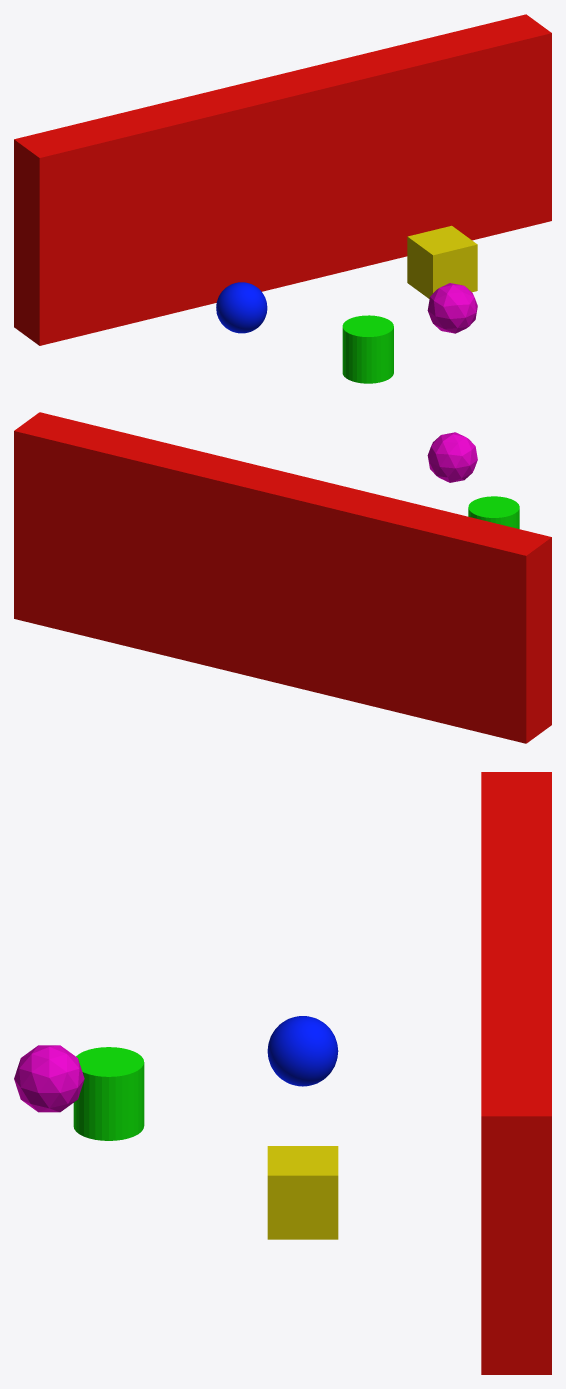
3 views of the same model, one above another, from view 1: azimuth 30°, elevation 25°; view 2: azimuth 150°, elevation 25°; view 3: azimuth 270°, elevation 25° (orthographic). The views are drawn at different scales.
Parts seen in each view (by area): view 1: Cube.001, Cube, Cylinder, Sphere, Icosphere; view 2: Cube.001, Icosphere, Cylinder; view 3: Cube.001, Cube, Cylinder, Sphere, Icosphere.
Boxes of the visible parts, box(x1,y1,x2,y2) form: Cube.001: box(14, 14, 551, 345); Cube: box(407, 225, 477, 298); Cylinder: box(342, 315, 393, 383); Sphere: box(216, 282, 267, 333); Icosphere: box(427, 283, 477, 333); Cube.001: box(14, 412, 551, 743); Icosphere: box(427, 432, 477, 482); Cylinder: box(468, 496, 519, 528); Cube.001: box(481, 772, 551, 1374); Cube: box(267, 1146, 338, 1239); Cylinder: box(73, 1047, 144, 1140); Sphere: box(267, 1016, 338, 1086); Icosphere: box(14, 1045, 84, 1112).
Size of what is drawn, in the model's own units: 23.03 by 8.07 by 15.22.
